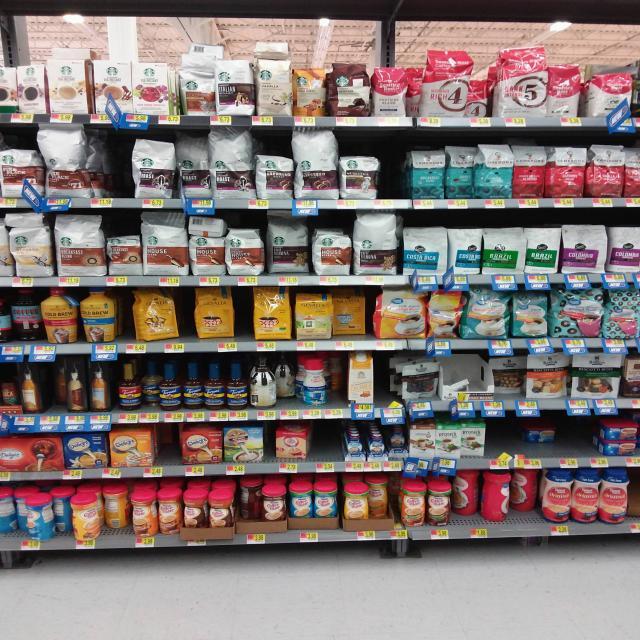empty: (93, 138, 133, 203), (377, 138, 414, 203), (298, 424, 349, 471), (555, 414, 603, 460), (483, 411, 525, 458), (154, 419, 188, 474)
